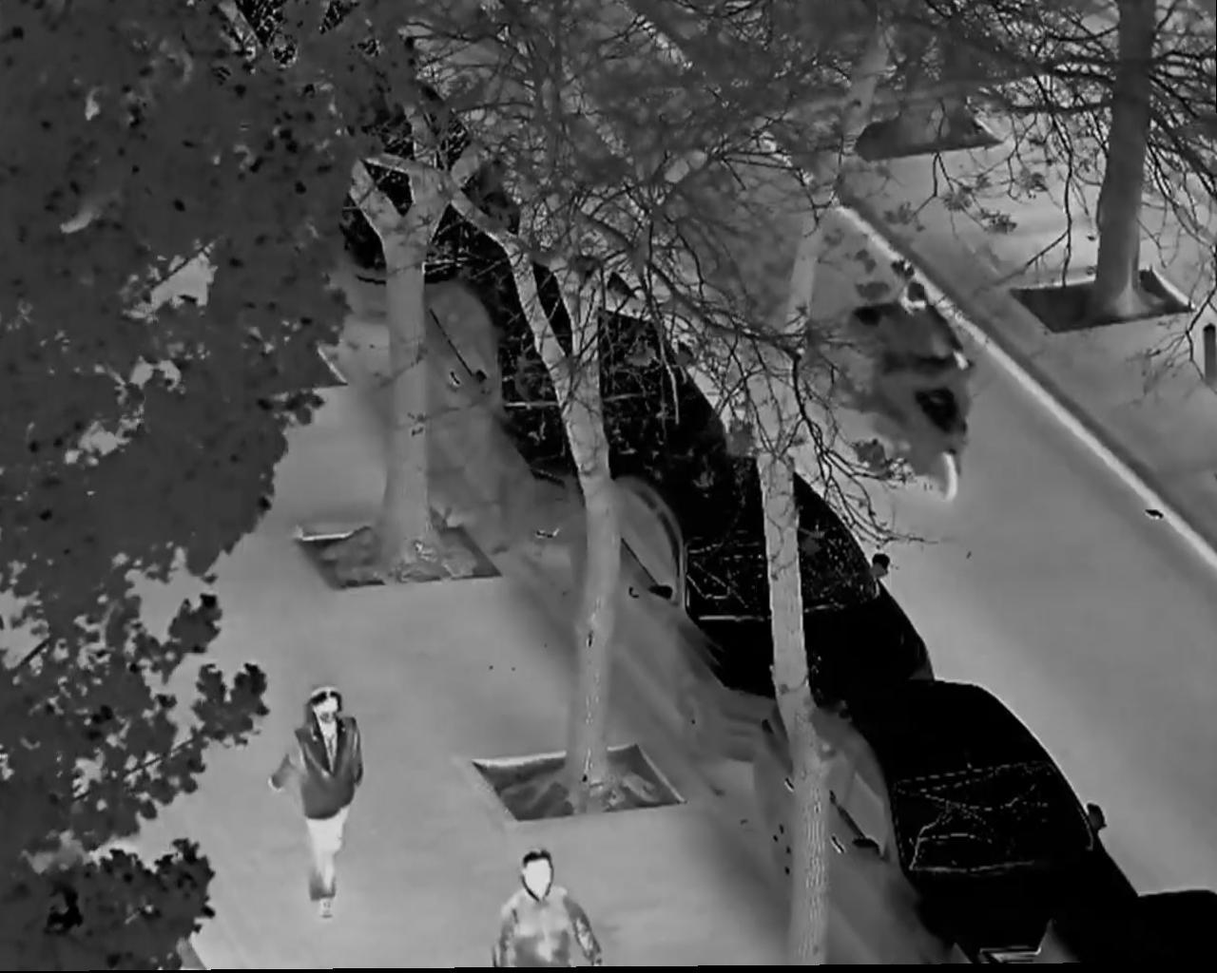person: (268, 684, 370, 919), (881, 278, 971, 447), (491, 849, 604, 968)
